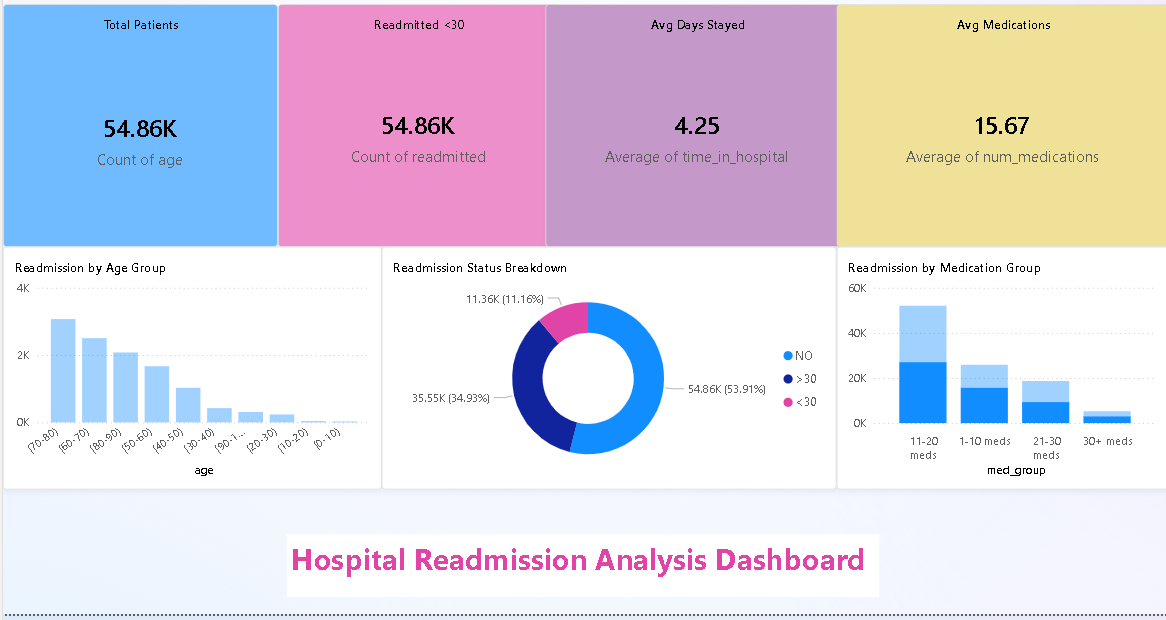

What the dashboard file says about the page in this screenshot:
{"tool":"powerbi","page":{"name":"Page 1","canvas":[1280,720],"ordinal":0},"visuals":[{"type":"card","title":"Total Patients","fields":{"Values":["CountNonNull(in (2).age)"]},"box":[0,50.8,301.9,266.2],"z":0},{"type":"card","title":"Readmitted <30","fields":{"Values":["CountNonNull(in (2).readmitted)"]},"box":[301.9,50.8,308.7,266.2],"z":1},{"type":"card","title":"Avg Days Stayed","fields":{"Values":["Avg(in (2).time_in_hospital)"]},"box":[595.5,50.8,333.4,266.2],"z":2},{"type":"card","title":"Avg Medications","fields":{"Values":["Avg(in (2).num_medications)"]},"box":[915.3,50.8,365,266.2],"z":3},{"type":"columnChart","title":"Readmission by Age Group","fields":{"Category":["in (2).age"],"Y":["CountNonNull(in (2).readmitted)"]},"box":[0,317,402.1,266.2],"z":4},{"type":"donutChart","title":"Readmission Status Breakdown","fields":{"Category":["in (2).readmitted"],"Y":["CountNonNull(in (2).readmitted)"]},"box":[415.8,317,447.3,266.2],"z":5},{"type":"columnChart","title":"Readmission by Medication Group","fields":{"Category":["in (2).med_group"],"Y":["CountNonNull(in (2).readmitted)"]},"box":[915,317,365,266],"z":6},{"type":"textbox","box":[311.5,632.6,773.9,68.6],"z":7}]}

Visuals, with their boxes in screenshot pixels (x1, y1, x2, y2):
"Total Patients" card: bbox=(0, 22, 275, 265)
"Readmitted <30" card: bbox=(275, 22, 557, 265)
"Avg Days Stayed" card: bbox=(543, 22, 847, 265)
"Avg Medications" card: bbox=(835, 22, 1165, 265)
"Readmission by Age Group" columnChart: bbox=(0, 265, 367, 508)
"Readmission Status Breakdown" donutChart: bbox=(379, 265, 787, 508)
"Readmission by Medication Group" columnChart: bbox=(834, 265, 1165, 507)
textbox: bbox=(284, 553, 990, 615)
